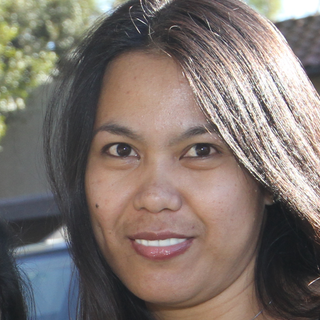eye: (177, 140, 224, 164), (95, 140, 143, 161)
